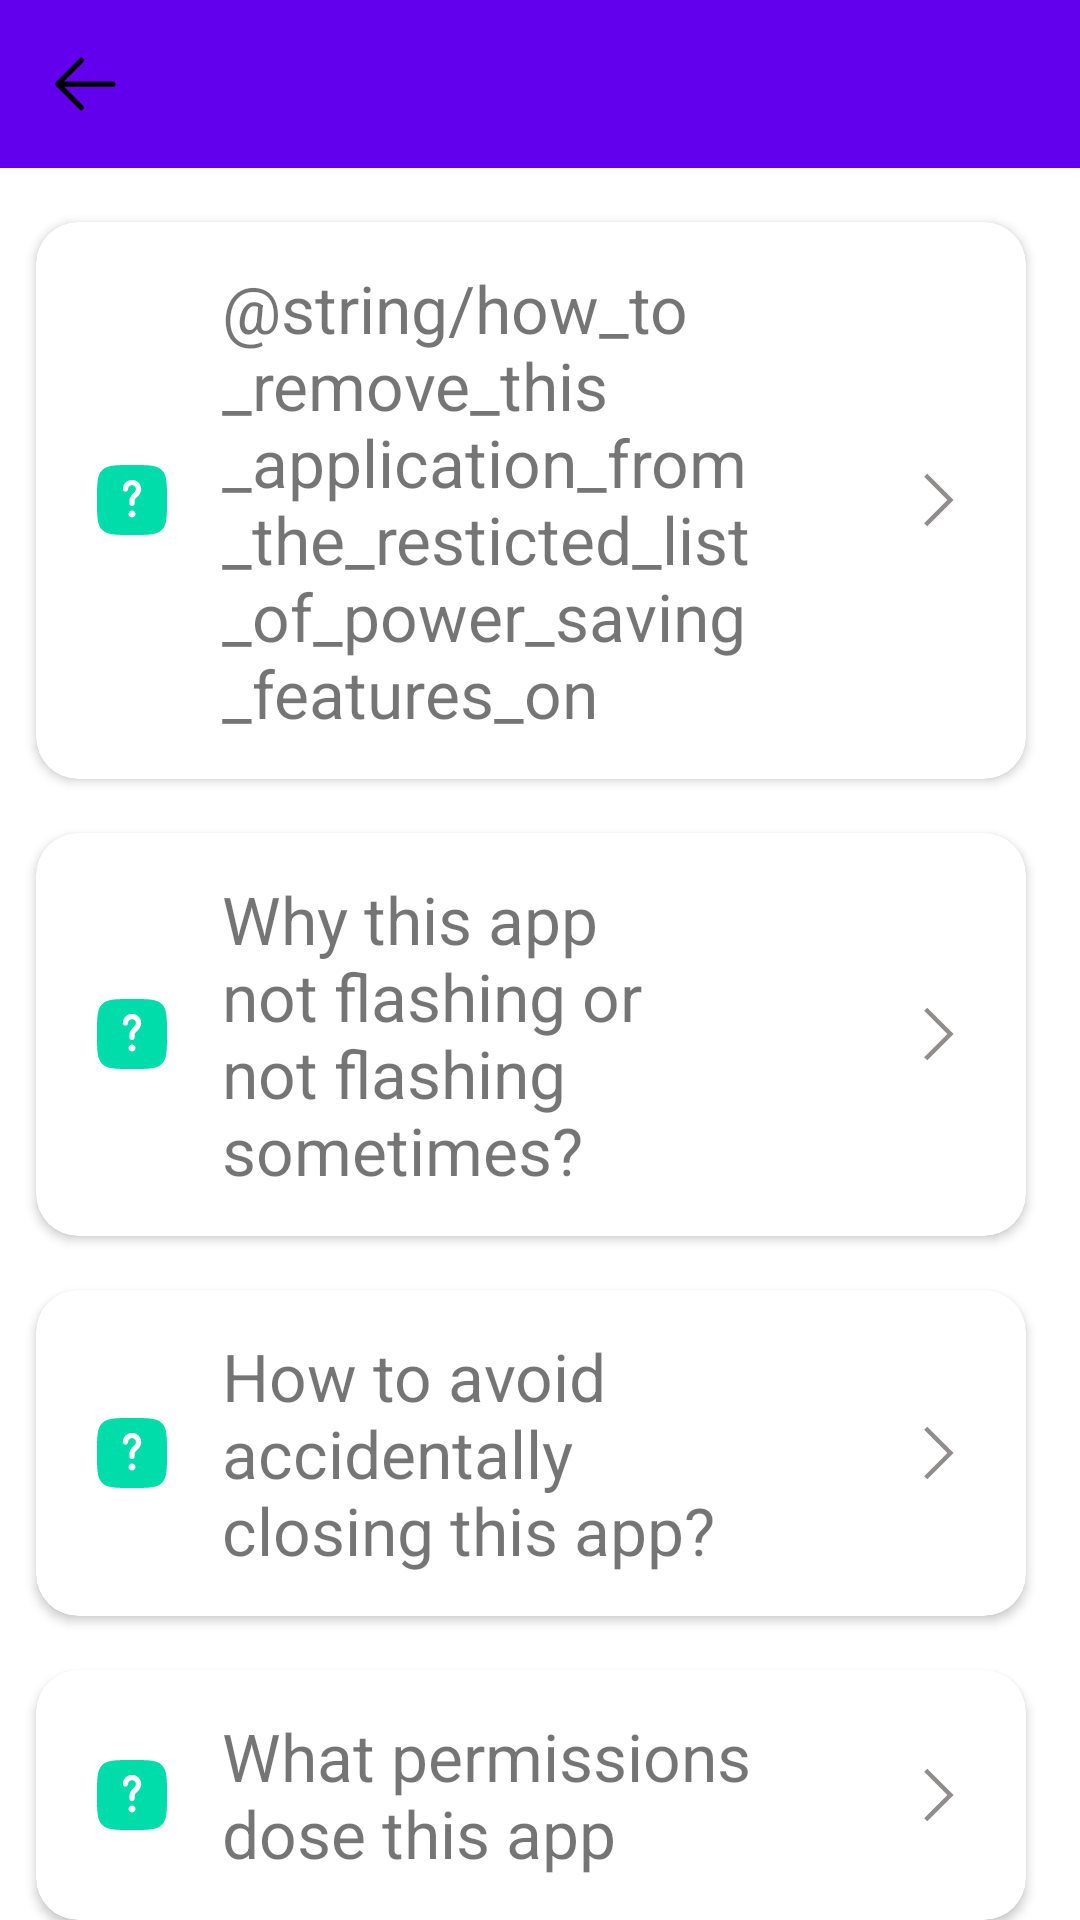

Named icons in this screenshot (1080w x 1920h) and their centers, (x,y):
next: (938,500), (938,1034), (938,1453), (938,1795)
question: (132,500), (132,1034), (132,1453), (132,1795)
